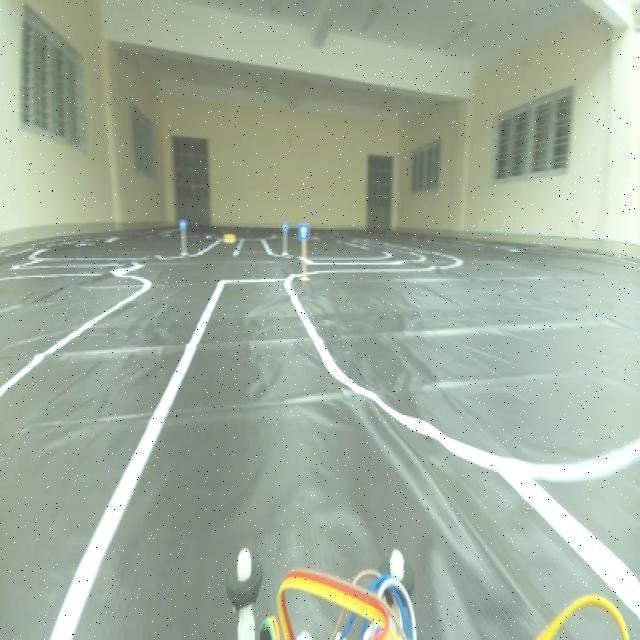onewayroad: (296, 220, 310, 247), (177, 214, 186, 233), (282, 216, 288, 234)
roadblock: (219, 230, 237, 247)
